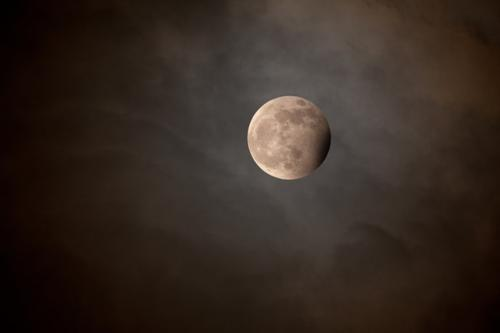moon: (245, 93, 333, 181)
